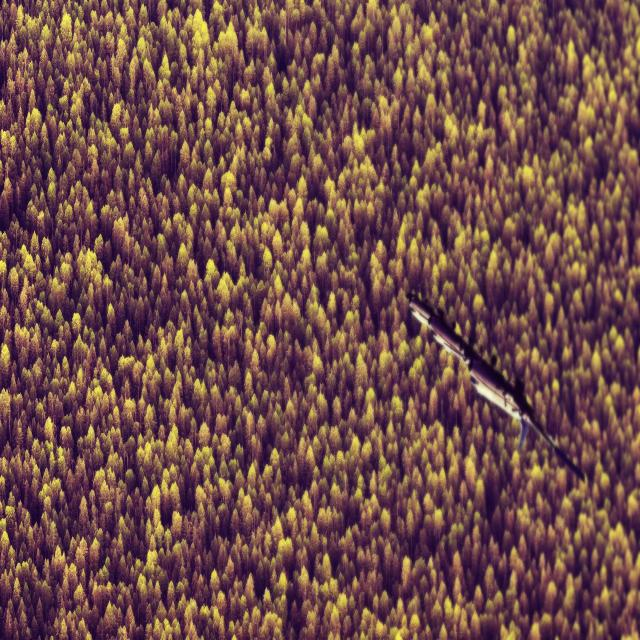airplane: (407, 291, 586, 483)
